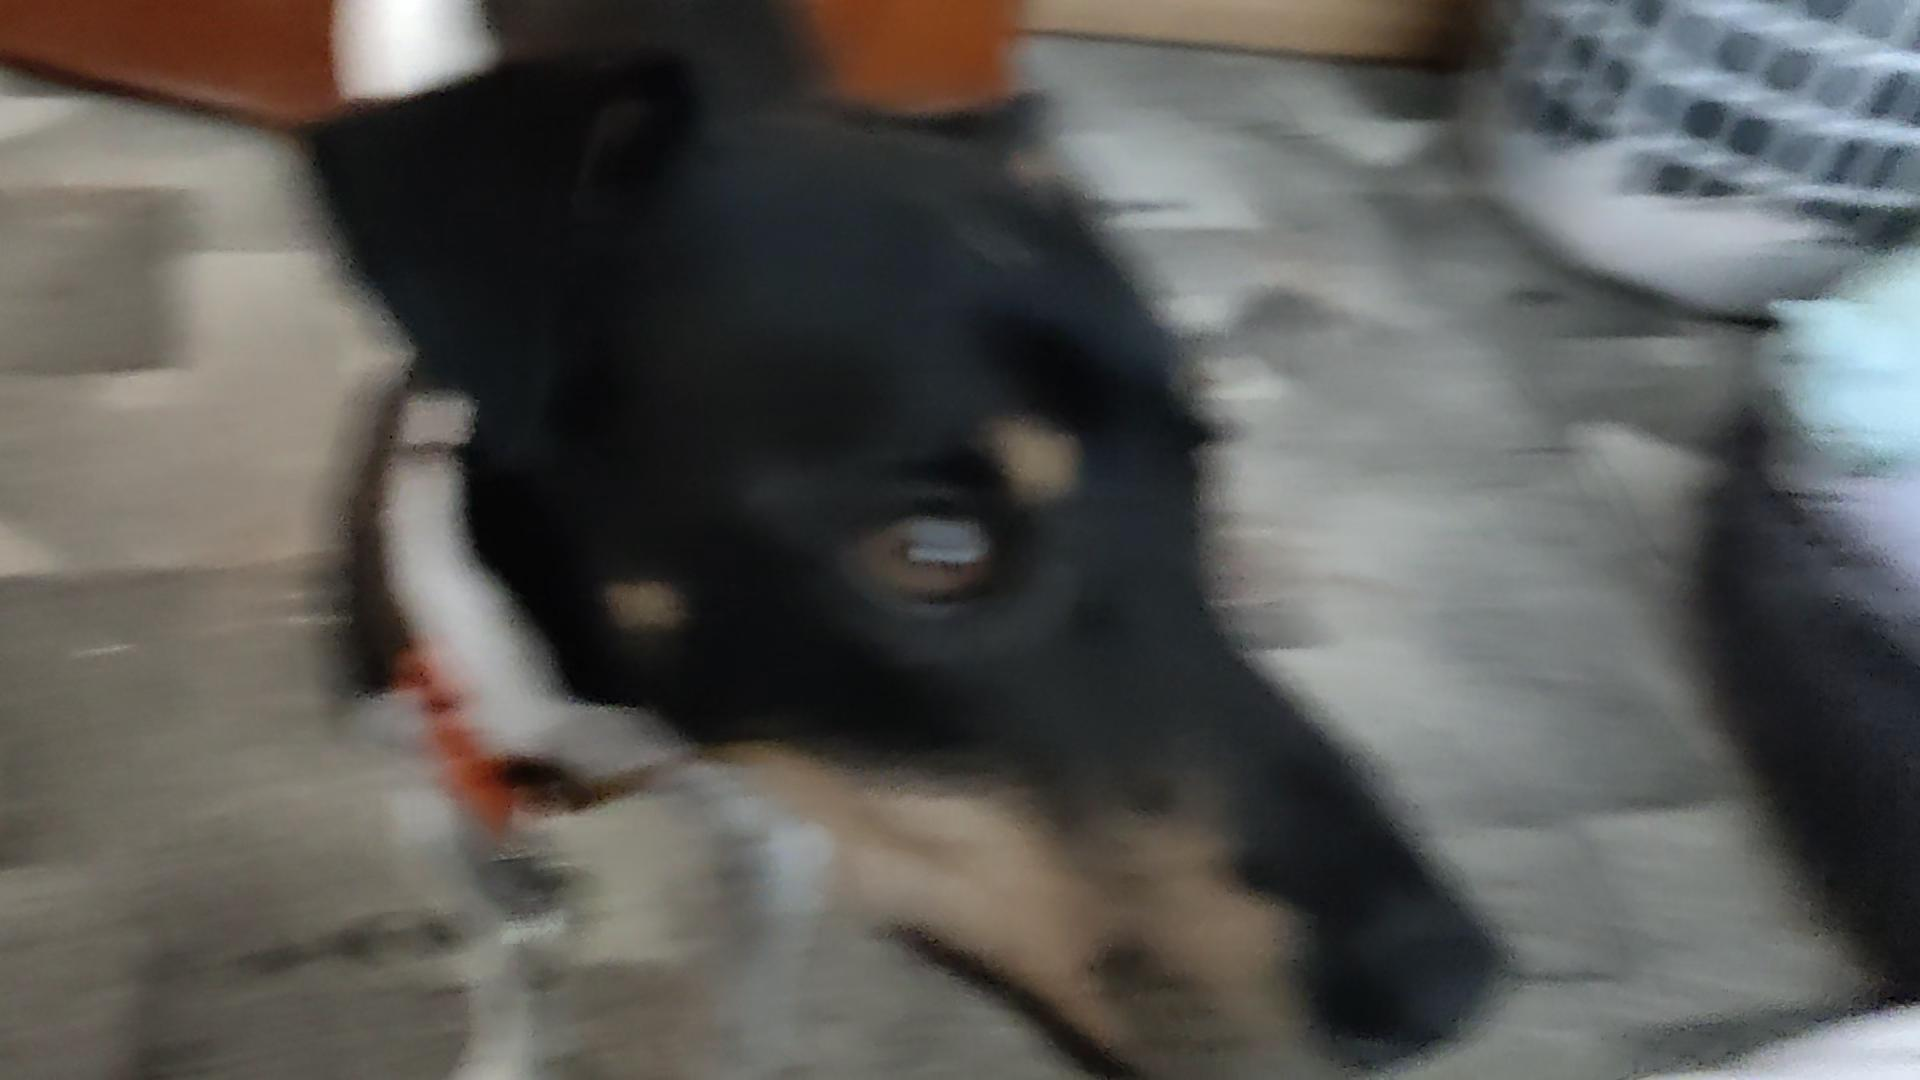Dog: (225, 0, 1551, 1080)
